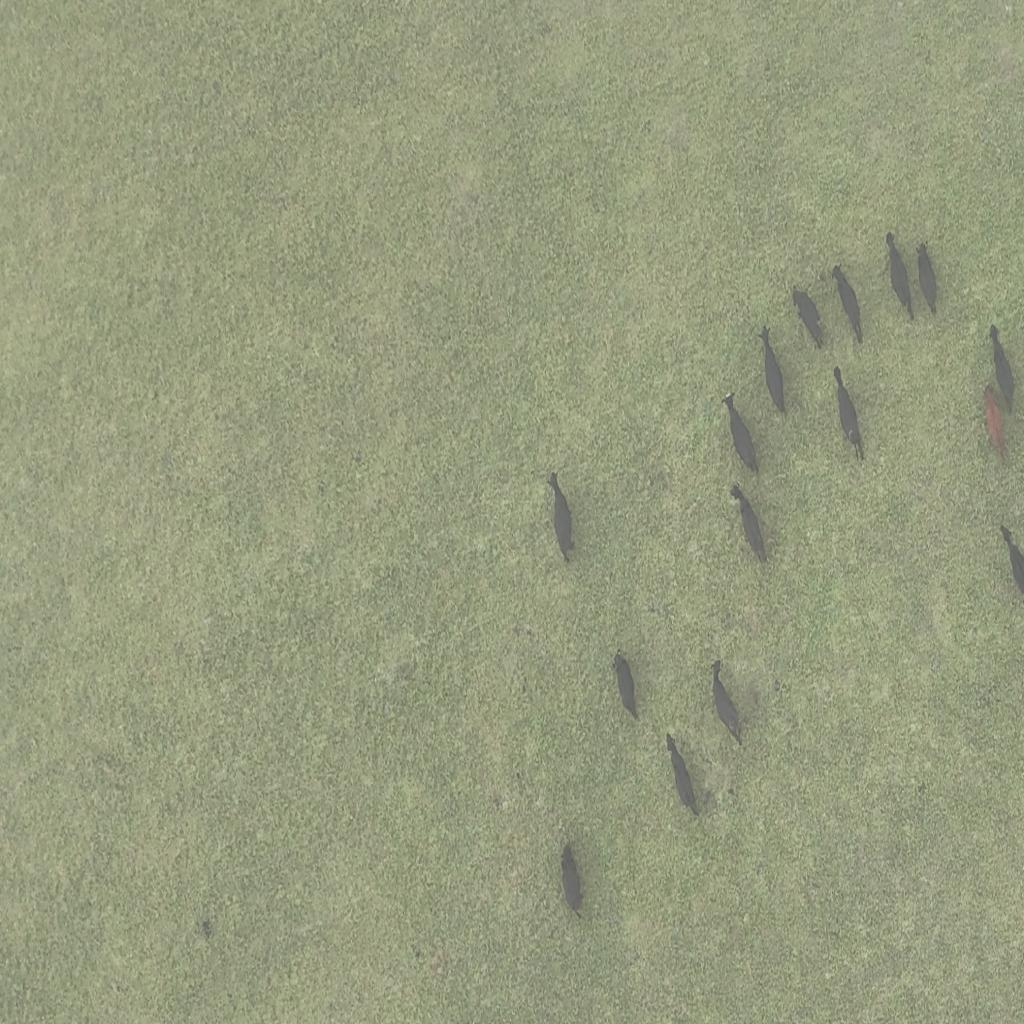cow: (832, 364, 864, 464), (730, 482, 766, 565), (989, 509, 1022, 599), (722, 392, 756, 476), (711, 658, 742, 750), (667, 731, 699, 818), (758, 326, 787, 420), (546, 468, 574, 564), (885, 232, 914, 320), (832, 262, 863, 342), (990, 321, 1018, 409), (980, 377, 1007, 466), (792, 285, 824, 348), (612, 647, 637, 722), (916, 238, 939, 318), (560, 842, 583, 916)
